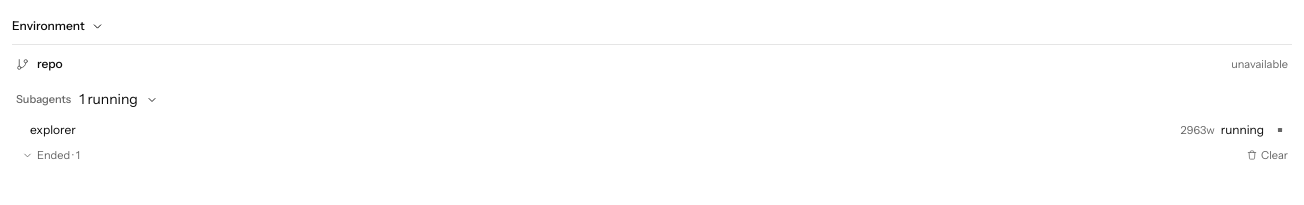
Test: folds ended subagents behind a toggle and clears them
Note: Expanding the group reveals it.
Click the button with aria-label "Toggle ended subagents" at (56,155), box x1=22 y1=145 x2=1237 y2=166
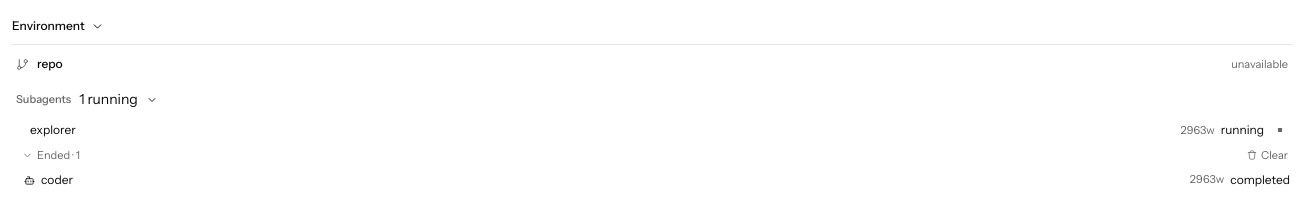
Check: the element named "Subagents" shows "coder", box x1=24 y1=170 x2=1290 y2=188
Note: Clear drops every ended row.
Click the button with aria-label "Clear ended subagents" at (1268,155), box x1=1243 y1=145 x2=1292 y2=165
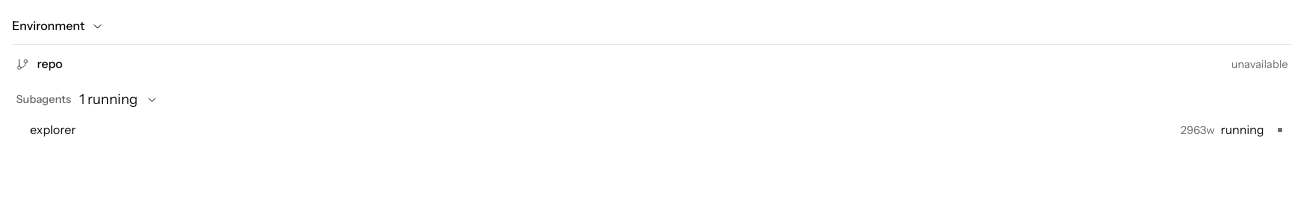
Check: the element named "Subagents" shows "explorer", box x1=24 y1=121 x2=1264 y2=139
Check: the button named "Subagents" no longer shows "coder"
Check: the button named "Subagents" no longer shows "Ended · 1"
